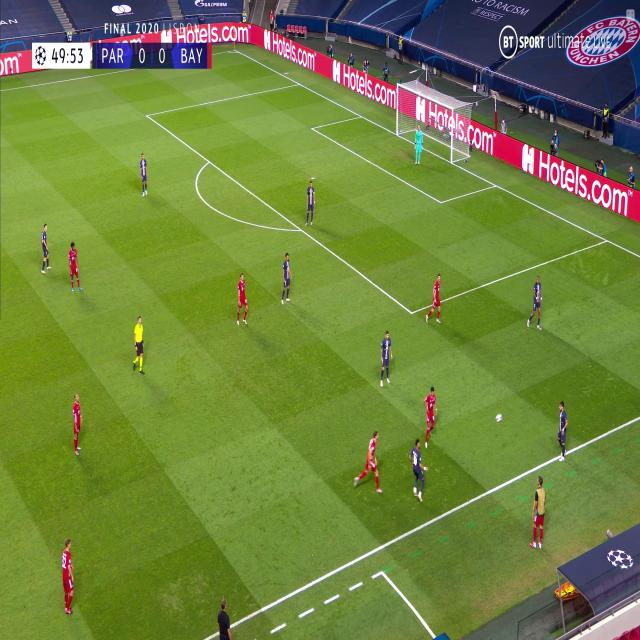ball: (496, 412, 502, 422)
player: (353, 430, 383, 495), (530, 476, 548, 552), (408, 438, 429, 502), (60, 538, 76, 614), (422, 385, 438, 446), (526, 276, 544, 330), (132, 314, 146, 375), (427, 274, 443, 326), (66, 241, 82, 293), (379, 329, 393, 387), (235, 271, 249, 326), (556, 399, 568, 463), (71, 392, 83, 456), (39, 222, 53, 274), (280, 252, 293, 304), (216, 598, 232, 640), (305, 178, 316, 226), (138, 152, 149, 196), (413, 126, 423, 166)
